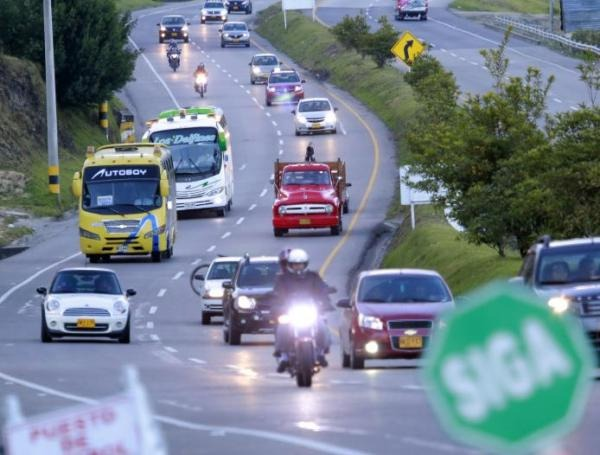car: (1, 27, 583, 441), (127, 1, 520, 218), (97, 11, 402, 204), (420, 281, 598, 453), (72, 150, 175, 269), (77, 150, 174, 267), (524, 232, 600, 356), (350, 271, 451, 363), (150, 113, 229, 219), (525, 233, 599, 346), (251, 260, 337, 354), (220, 258, 312, 345), (36, 267, 135, 343), (271, 291, 333, 385), (272, 161, 343, 236), (272, 162, 343, 236), (523, 237, 600, 302), (196, 259, 260, 335), (298, 101, 345, 200), (230, 257, 280, 340), (189, 257, 244, 321), (278, 327, 327, 388), (297, 100, 336, 156), (294, 99, 333, 153), (263, 100, 298, 158), (294, 94, 331, 136)
